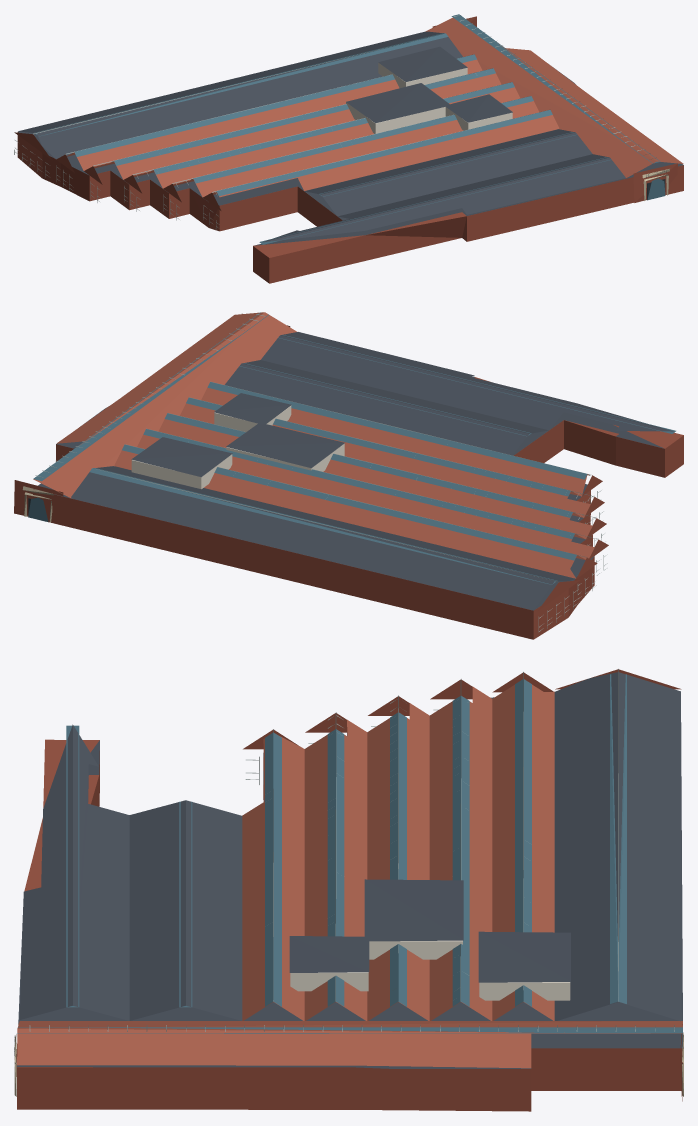
File: de-hallen.lod1.glb
3 views of the same model, one above another, from view 1: azimuth 30°, elevation 25°; view 2: azimuth 150°, elevation 25°; view 3: azimuth 270°, elevation 25° (orthographic). The views are drawn at different scales.
Visible parts, largest first — view 1: de-hallen; view 2: de-hallen; view 3: de-hallen.
Boxes of the visible parts, <box> form: de-hallen: <box>14,14,683,283</box>; de-hallen: <box>14,312,683,639</box>; de-hallen: <box>14,669,683,1111</box>.
Size of the model in its own units: 138 by 11.25 by 103.
